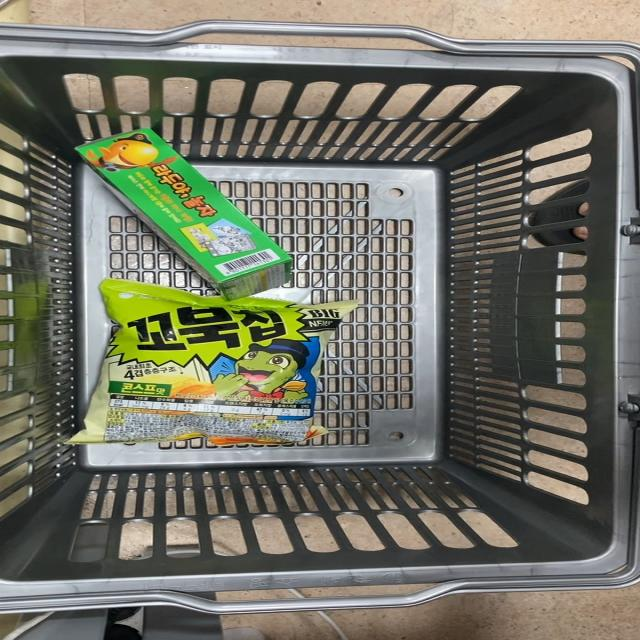ggobukchip: (57, 292, 341, 444)
goraebob: (63, 124, 314, 285)
